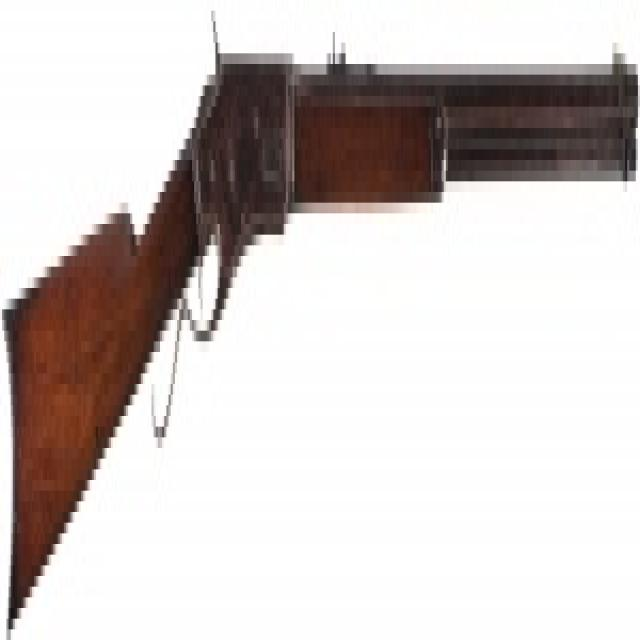rifle: (4, 1, 640, 640)
